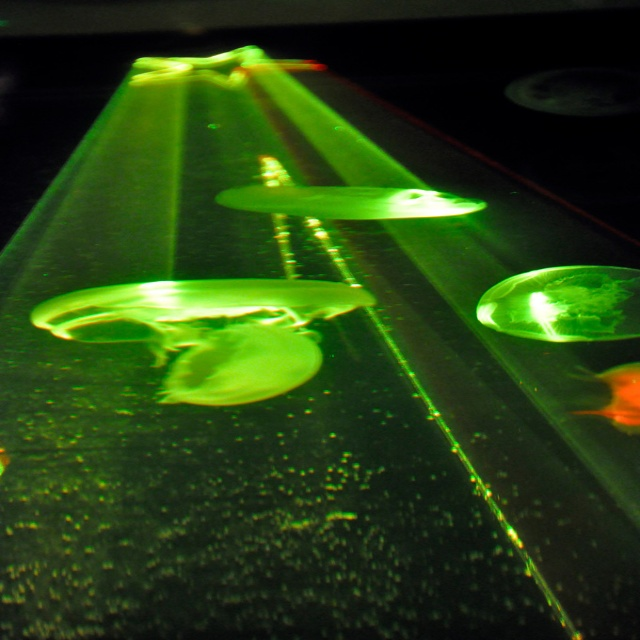Jellyfish: (128, 305, 324, 404)
